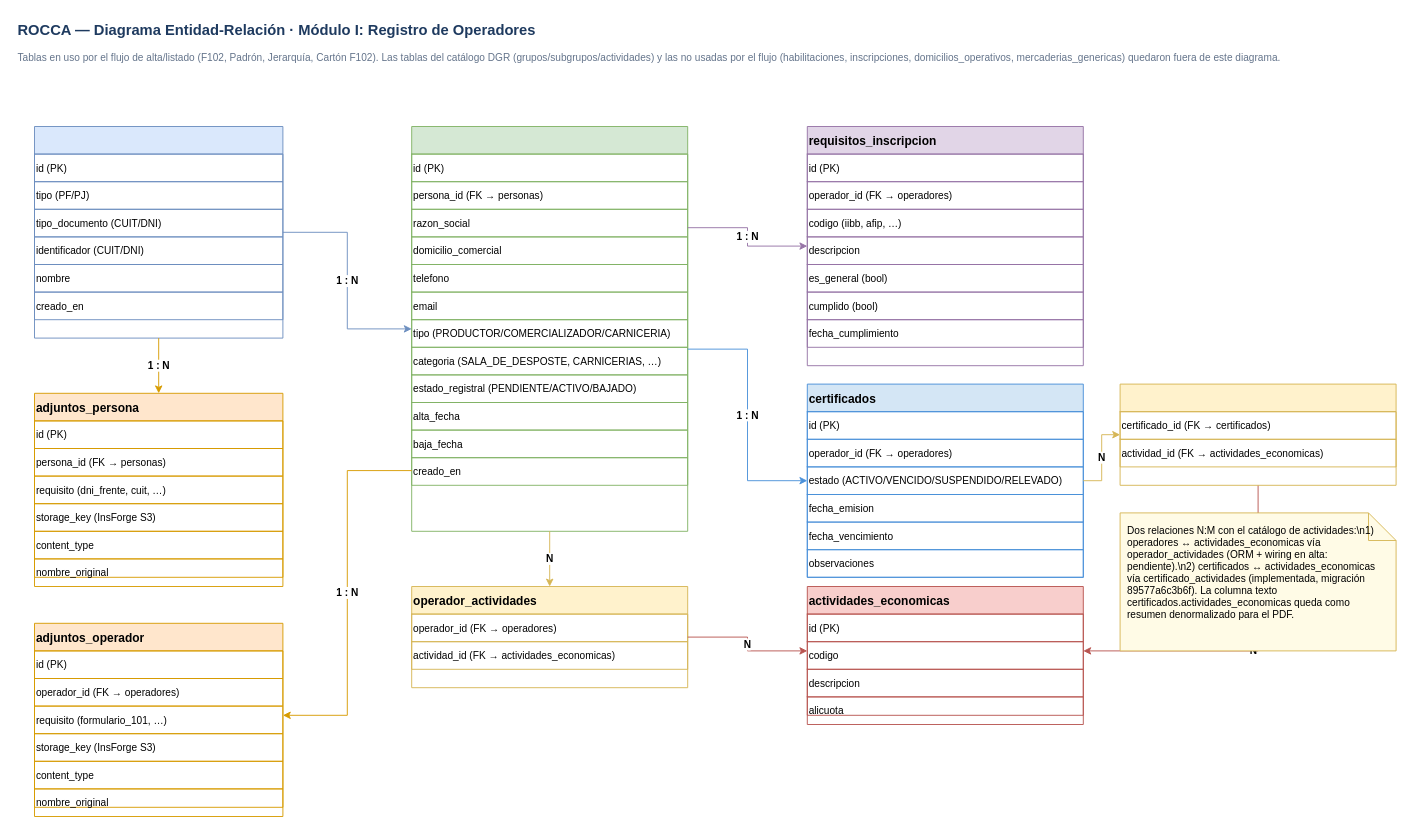
The diagram is 1412 pixels wide and 833 high, and some of its shapes have lost their labels. Each missing label, with the box of its shape:
certificado_actividades: (1119, 383, 1396, 485)
operadores: (411, 126, 688, 531)
personas: (34, 126, 283, 338)
